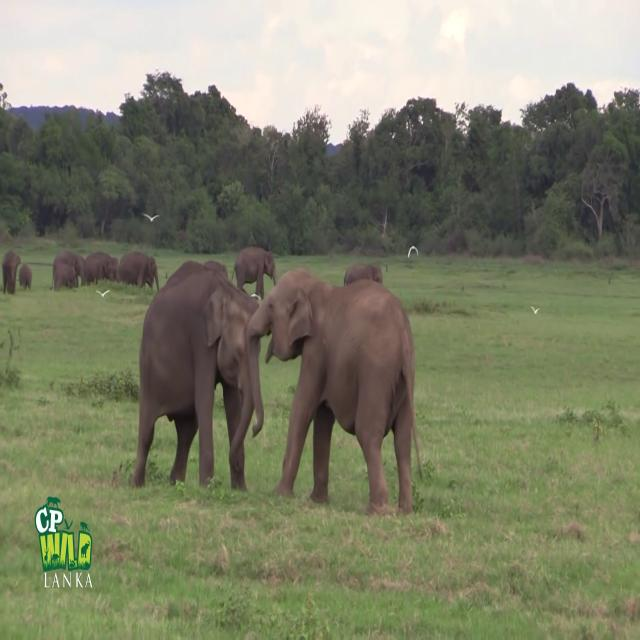Elephant: (246, 266, 423, 516), (132, 260, 264, 490), (231, 245, 276, 300), (118, 251, 159, 291), (52, 250, 85, 288), (84, 251, 118, 285), (343, 263, 382, 286), (2, 249, 20, 294), (18, 263, 32, 289)
